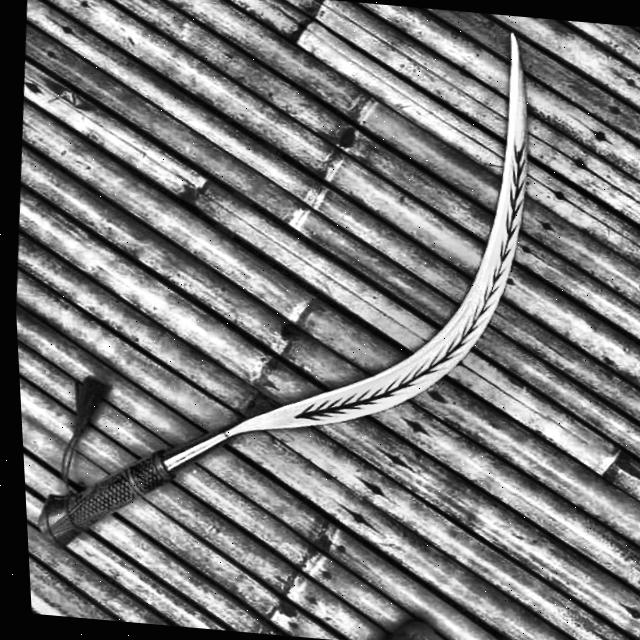celurit: (27, 23, 541, 562)
